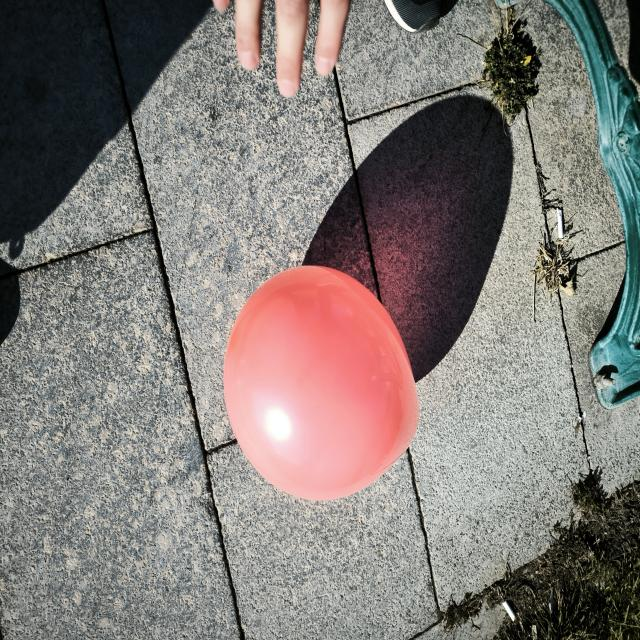balloon: (224, 266, 418, 500)
